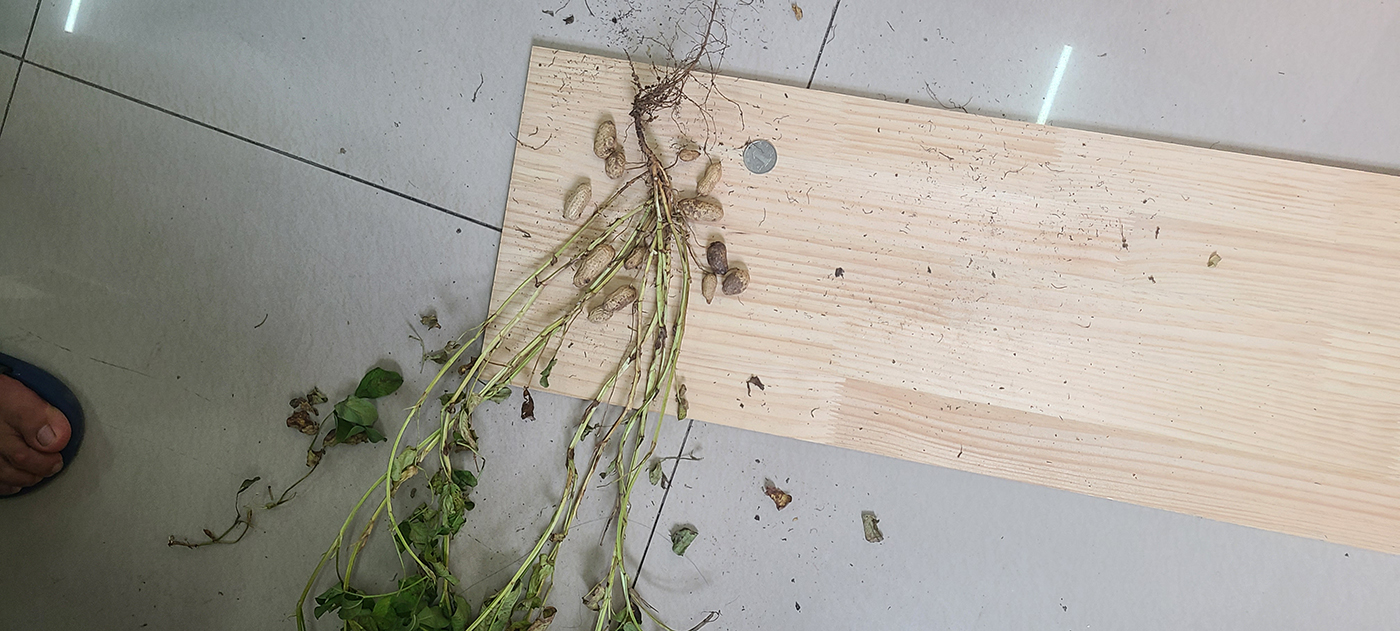h: (574, 242, 616, 289), (588, 285, 638, 324), (562, 182, 592, 221), (677, 199, 723, 224), (593, 120, 617, 159), (695, 162, 723, 195), (623, 244, 651, 270), (605, 153, 627, 179), (702, 274, 718, 305)
l: (707, 241, 730, 275), (723, 270, 750, 297)
